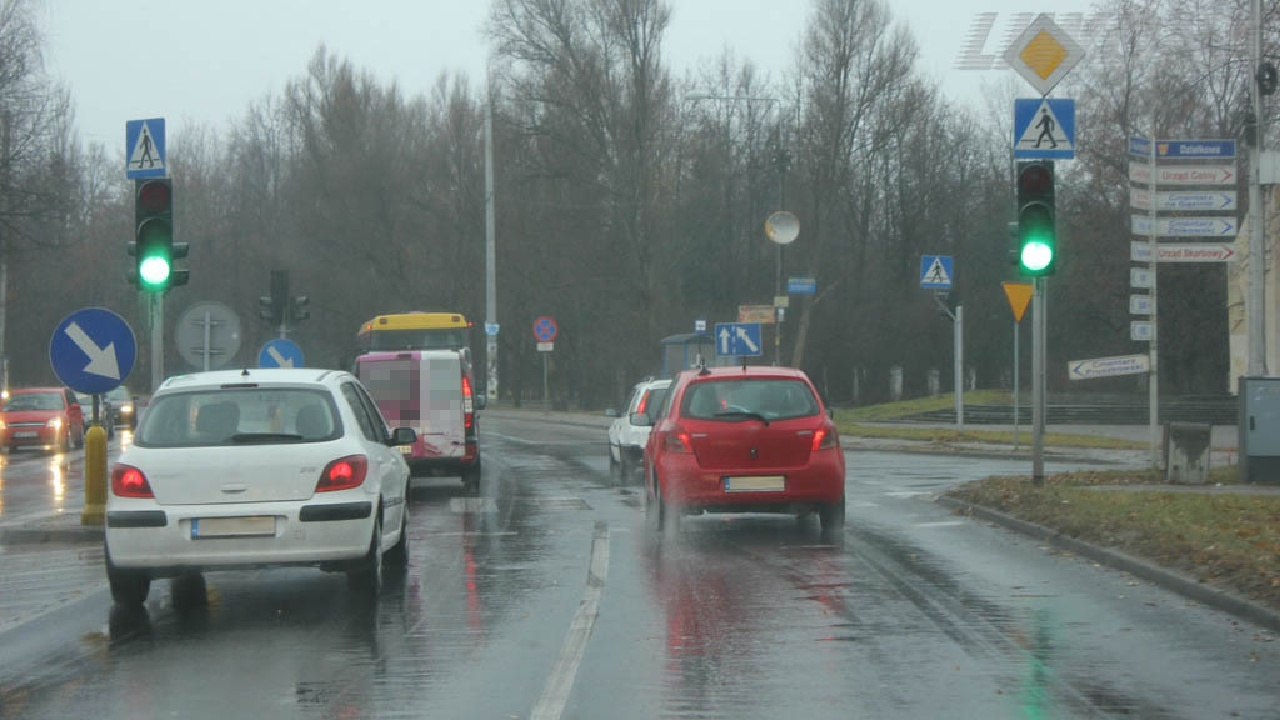A7: (1001, 281, 1038, 322)
B36: (532, 316, 559, 342)
C9: (49, 306, 137, 397), (259, 338, 306, 369)
D1: (1005, 15, 1086, 95)
D6: (1012, 96, 1077, 161), (123, 118, 166, 175), (921, 255, 954, 288)
Green: (1019, 163, 1053, 273), (138, 180, 169, 289)
